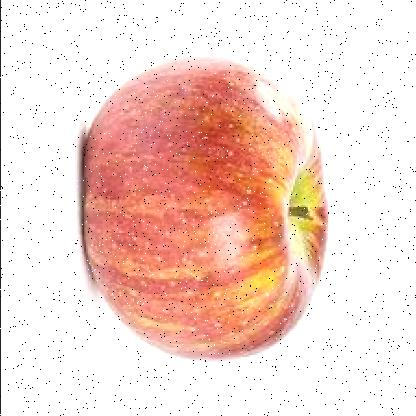apple: (65, 54, 329, 358)
